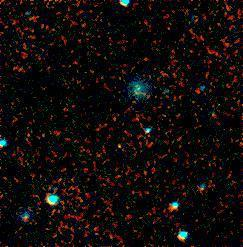star: (102, 126, 132, 156)
